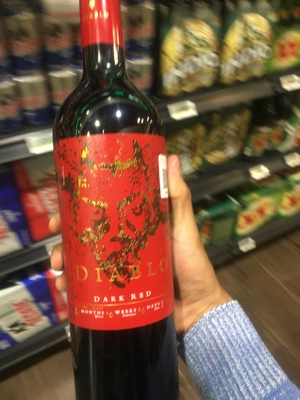diablo dark red: (46, 11, 192, 400)
